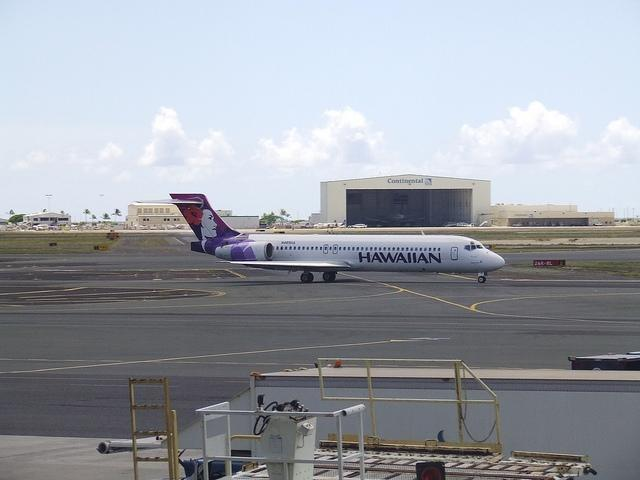truck: (106, 357, 596, 473)
